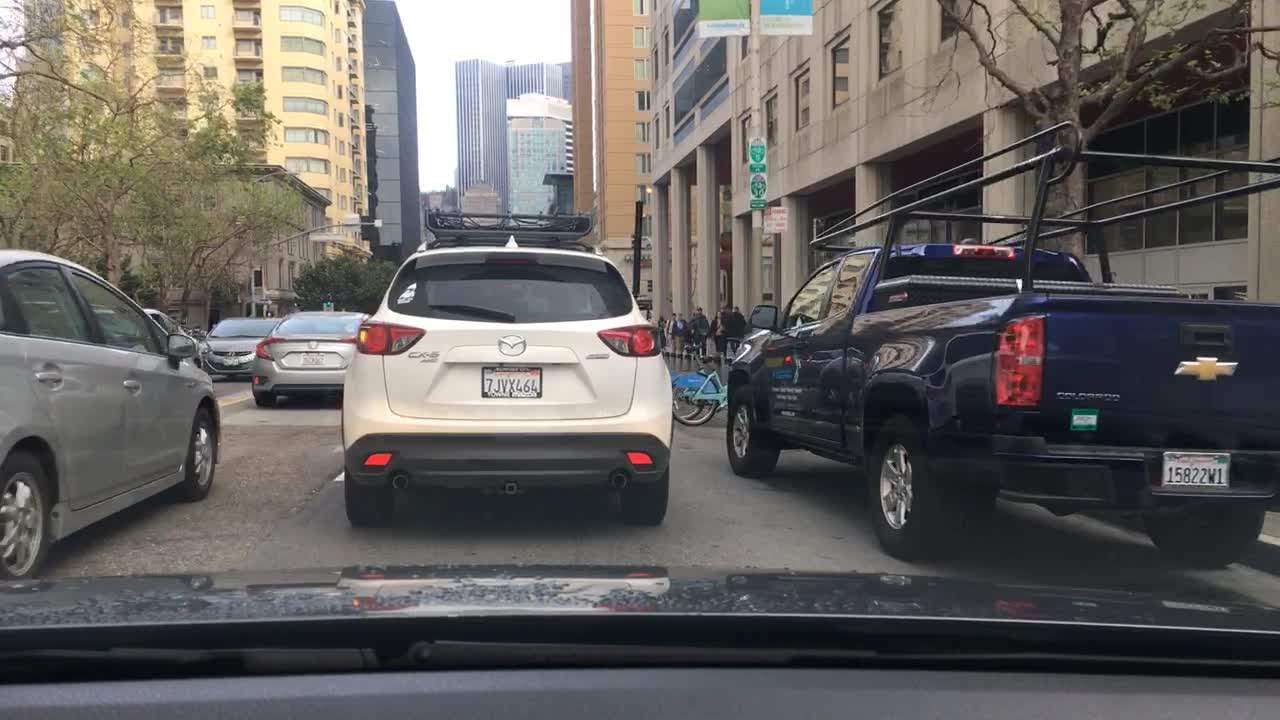bike: (671, 337, 742, 428), (673, 347, 732, 418)
car: (341, 205, 671, 534), (1, 246, 224, 582), (249, 313, 368, 408), (197, 313, 283, 381), (141, 305, 201, 357)
person: (725, 307, 746, 354), (693, 303, 708, 357), (670, 307, 685, 357), (665, 313, 675, 356), (712, 307, 722, 350), (685, 308, 693, 361), (658, 310, 666, 345)
traffic light: (324, 291, 332, 310)
traffic sign: (746, 139, 768, 204), (763, 204, 785, 232)
truck: (722, 118, 1277, 563)
